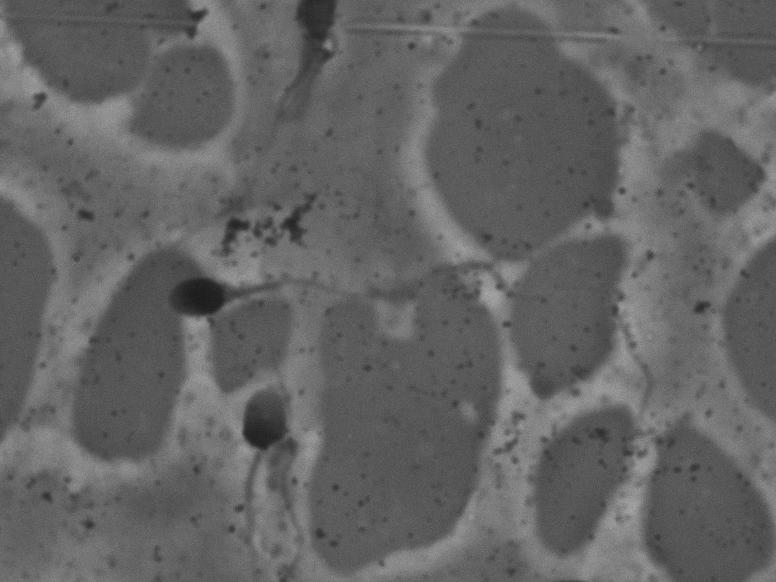Abnormal: (219, 368, 321, 576)
Normal: (147, 248, 566, 329)
